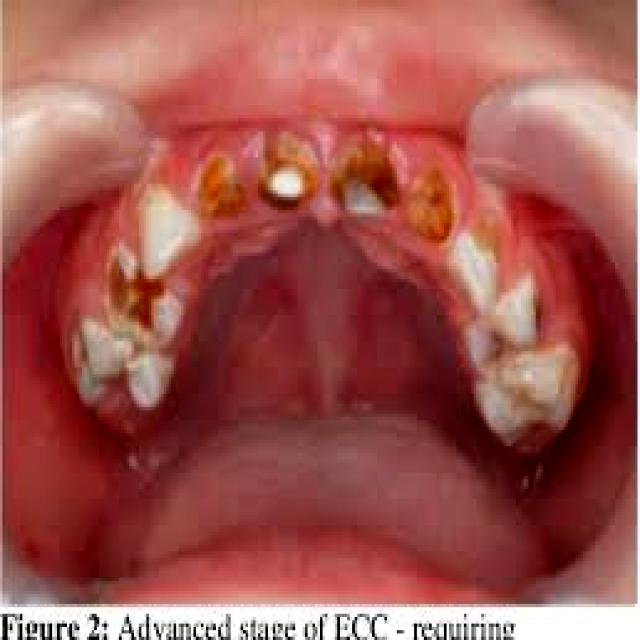cariess: (203, 125, 454, 246), (109, 253, 161, 322)
